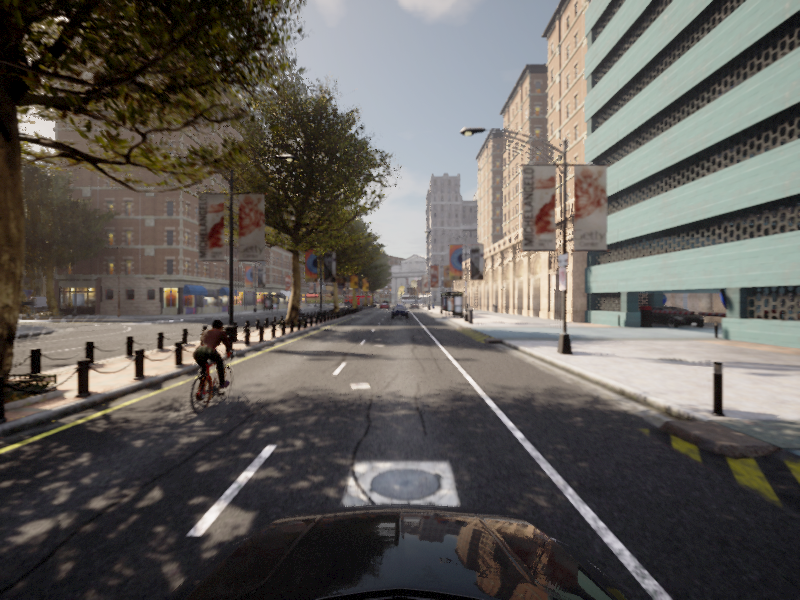vehicle: (1, 1, 799, 493), (1, 1, 799, 490), (173, 318, 246, 419), (391, 305, 408, 318), (293, 303, 304, 317)
